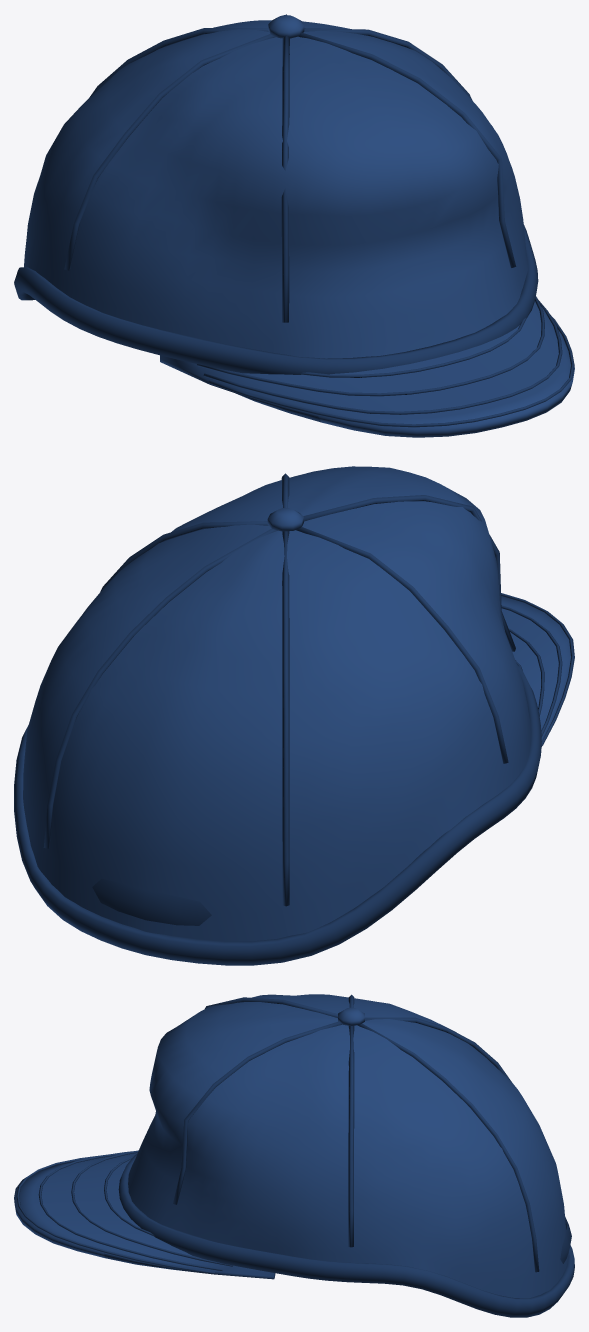
The model's file is czapka_daszek.glb.
3 renders of one model, top to bottom at view 1: azimuth 30°, elevation 25°; view 2: azimuth 150°, elevation 25°; view 3: azimuth 270°, elevation 25°, orthographic. The views are drawn at different scales.
Parts seen in each view (by area): view 1: czapka_daszek; view 2: czapka_daszek; view 3: czapka_daszek.
Part boxes in pixels (x1,y1,x2,y2): czapka_daszek: [14, 14, 574, 437]; czapka_daszek: [14, 466, 574, 965]; czapka_daszek: [14, 994, 574, 1317].
Bounding box in the file's own units: 0.2293 × 0.1657 × 0.3184.
